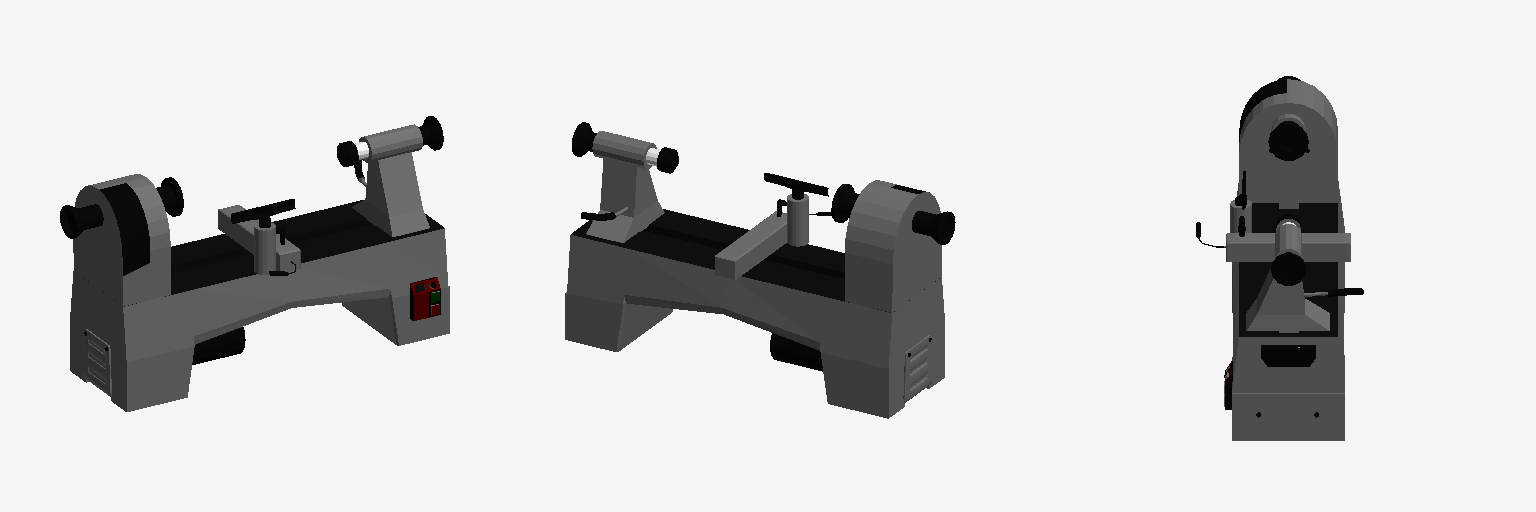
The model's file is stanok_upd_ver.obj.
3 views of the same model, side by side, from view 1: azimuth 30°, elevation 25°; view 2: azimuth 150°, elevation 25°; view 3: azimuth 270°, elevation 25° (orthographic).
Visible parts, largest first — view 1: body, left_part_cylender, right_part, mid_obj, damper, fuel_tank, elec_face; view 2: body, left_part_cylender, right_part, mid_obj, damper, fuel_tank; view 3: body, left_part_cylender, right_part, mid_obj, bodypart.
Part boxes in pixels (x1,y1,x2,y2): body: (70, 200, 449, 411); left_part_cylender: (60, 174, 183, 306); right_part: (337, 116, 443, 236); mid_obj: (218, 199, 300, 275); damper: (83, 329, 111, 396); fuel_tank: (192, 327, 245, 364); elec_face: (410, 277, 440, 320); body: (565, 209, 944, 418); left_part_cylender: (831, 180, 955, 312); right_part: (572, 122, 678, 242); mid_obj: (715, 173, 831, 279); damper: (903, 335, 932, 402); fuel_tank: (770, 333, 822, 371); body: (1232, 181, 1344, 440); left_part_cylender: (1239, 76, 1337, 208); right_part: (1246, 214, 1363, 332); mid_obj: (1196, 171, 1350, 261); bodypart: (1261, 345, 1315, 366).
Bounding box in the file's own units: 8.17 × 4.32 × 3.24.